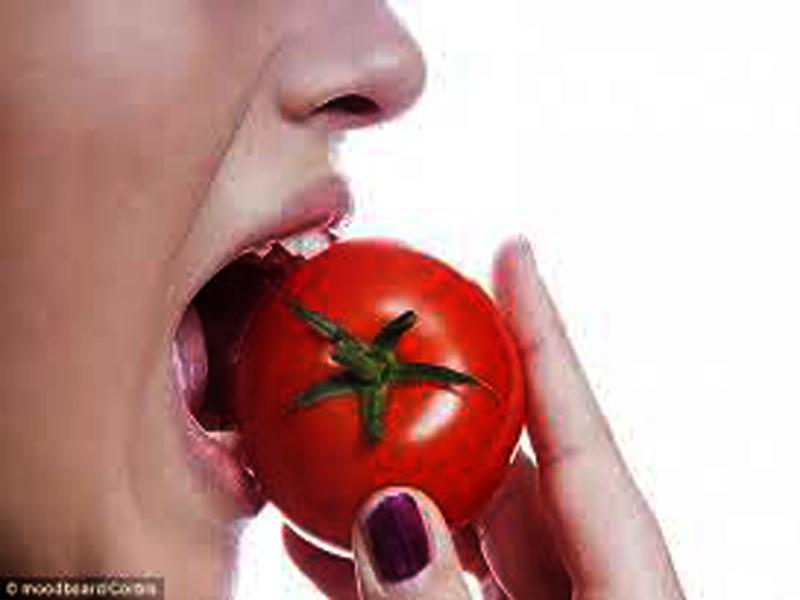Tomato: (237, 240, 527, 558)
